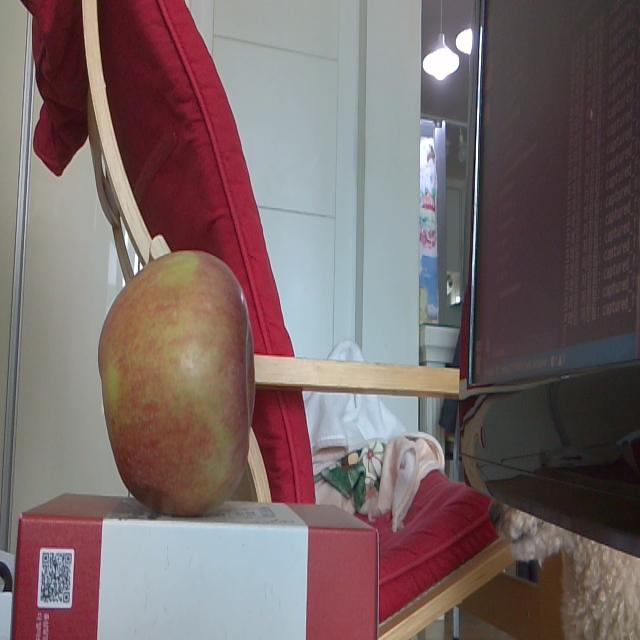apple: (98, 248, 254, 515)
